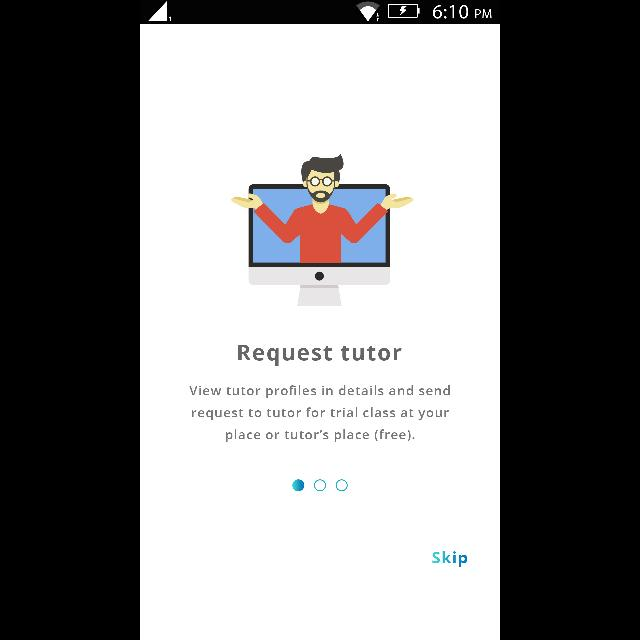image: (231, 154, 413, 306)
pageindicator: (292, 478, 348, 492)
text: (190, 385, 450, 443), (238, 344, 402, 366), (432, 552, 468, 568)
uppertaskbar: (140, 0, 500, 24)
